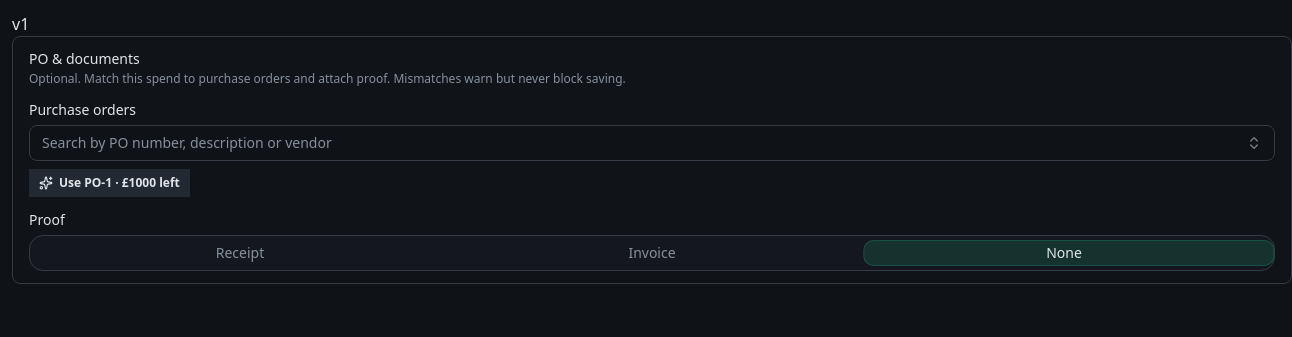
Test case: ExpenseDocumentMatch › suggests the vendor's only open PO as a one-tap chip
This screenshot has width=1292, height=337.
Click the button "Use PO-1 · £1000 left" at coordinates (109, 183), box [29,169,190,197]
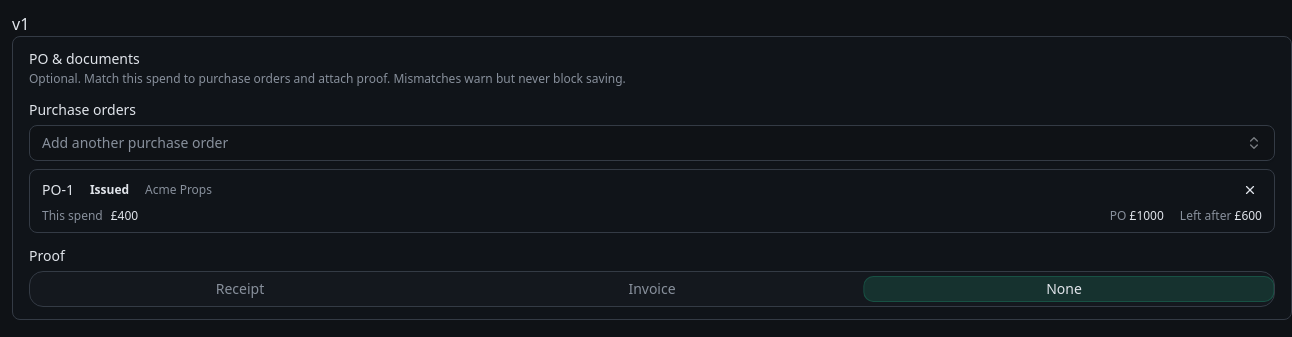
Check: the button "Use PO-1" is gone
